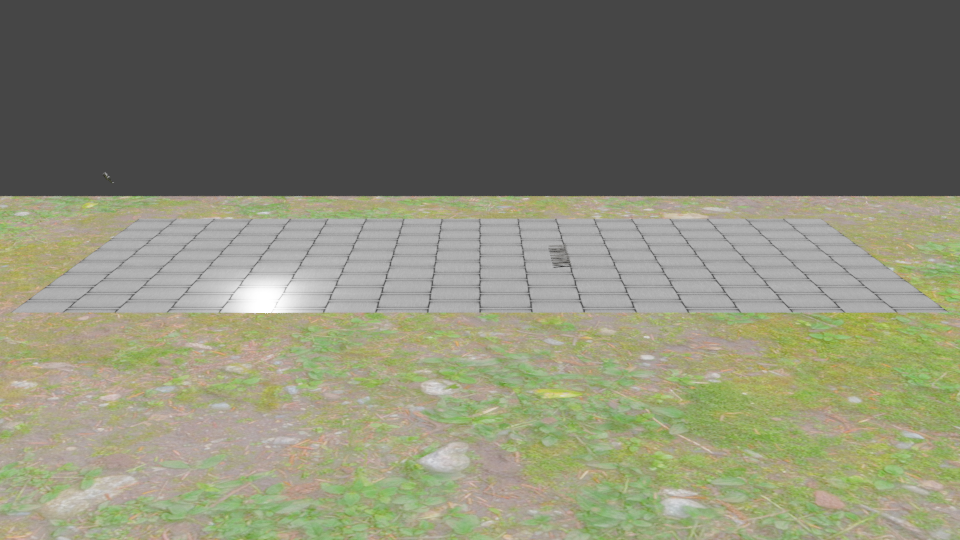yamaha_letters: (548, 243, 572, 265)
